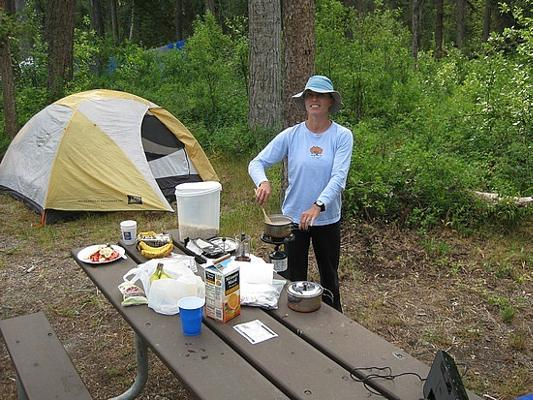person: (248, 77, 354, 316)
